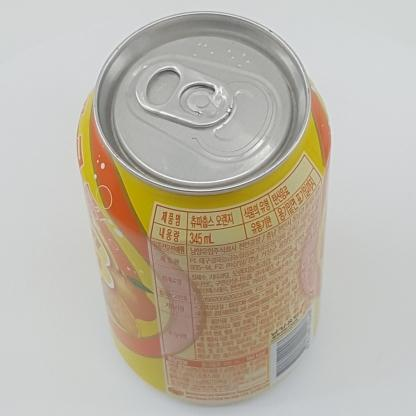----------345ML: (76, 10, 331, 407)
